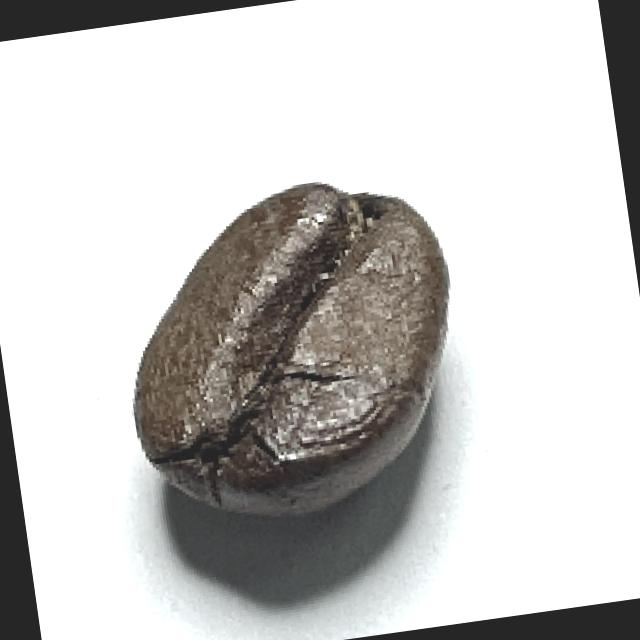bean: (104, 166, 478, 536)
